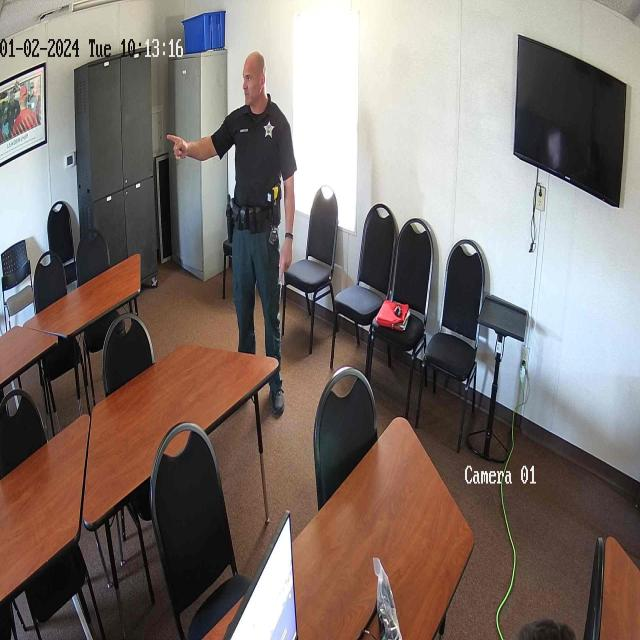weapon: (226, 196, 236, 243)
